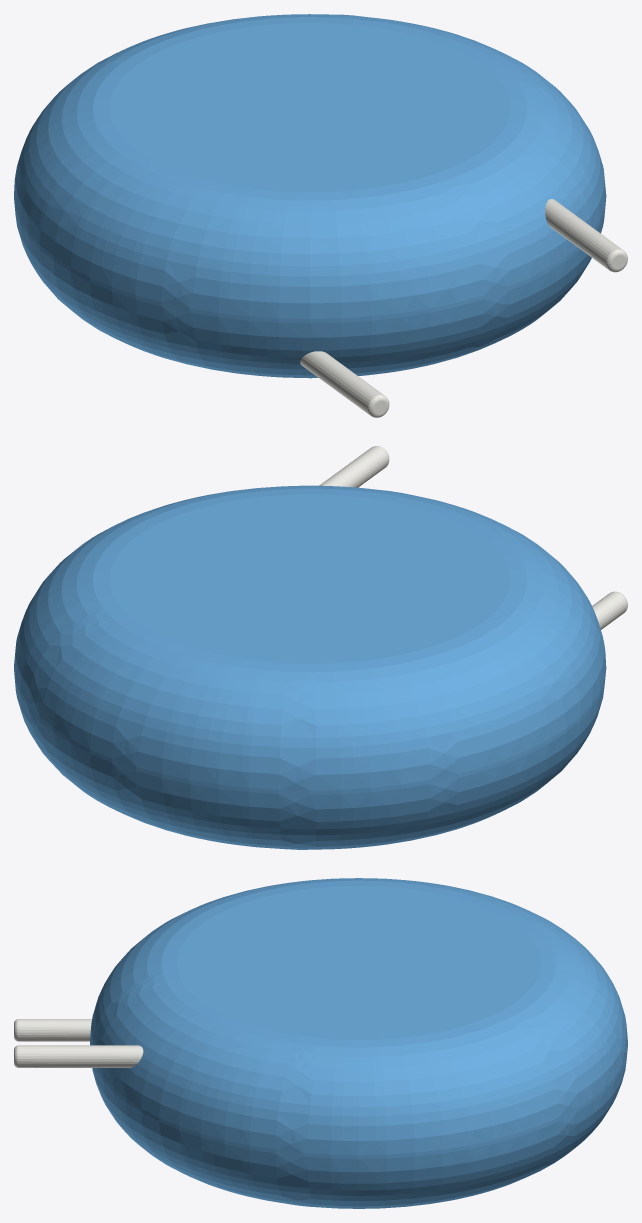
File: RV_Disc_D21.5mm_W7.1mm_P10mm.glb
The picture shows the model from 3 angles, top to bottom: view 1: azimuth 30°, elevation 25°; view 2: azimuth 150°, elevation 25°; view 3: azimuth 270°, elevation 25°; orthographic projection. The views are drawn at different scales.
Parts seen in each view (by area): view 1: Shape_IndexedFaceSet.001, Shape_IndexedFaceSet.003, Shape_IndexedFaceSet.002, Shape_IndexedFaceSet, Shape_IndexedFaceSet.004, Shape_IndexedFaceSet.006; view 2: Shape_IndexedFaceSet.001, Shape_IndexedFaceSet.003, Shape_IndexedFaceSet.002, Shape_IndexedFaceSet, Shape_IndexedFaceSet.004, Shape_IndexedFaceSet.006; view 3: Shape_IndexedFaceSet.001, Shape_IndexedFaceSet.003, Shape_IndexedFaceSet.002, Shape_IndexedFaceSet.004, Shape_IndexedFaceSet, Shape_IndexedFaceSet.006.
Part boxes in pixels (<box>): Shape_IndexedFaceSet.001: <box>14,14,605,318</box>; Shape_IndexedFaceSet.003: <box>109,22,510,192</box>; Shape_IndexedFaceSet.002: <box>14,201,605,378</box>; Shape_IndexedFaceSet: <box>14,194,606,323</box>; Shape_IndexedFaceSet.004: <box>545,199,622,268</box>; Shape_IndexedFaceSet.006: <box>300,351,383,414</box>; Shape_IndexedFaceSet.001: <box>14,485,605,790</box>; Shape_IndexedFaceSet.003: <box>109,494,510,663</box>; Shape_IndexedFaceSet.002: <box>14,674,605,849</box>; Shape_IndexedFaceSet: <box>14,666,606,794</box>; Shape_IndexedFaceSet.004: <box>319,446,388,487</box>; Shape_IndexedFaceSet.006: <box>592,592,627,629</box>; Shape_IndexedFaceSet.001: <box>90,878,627,1155</box>; Shape_IndexedFaceSet.003: <box>176,886,541,1039</box>; Shape_IndexedFaceSet.002: <box>92,1050,627,1208</box>; Shape_IndexedFaceSet.004: <box>18,1045,143,1067</box>; Shape_IndexedFaceSet: <box>90,1043,627,1159</box>; Shape_IndexedFaceSet.006: <box>18,1019,91,1041</box>.
Bounding box in the file's own units: 8.47 × 2.8 × 9.66.
